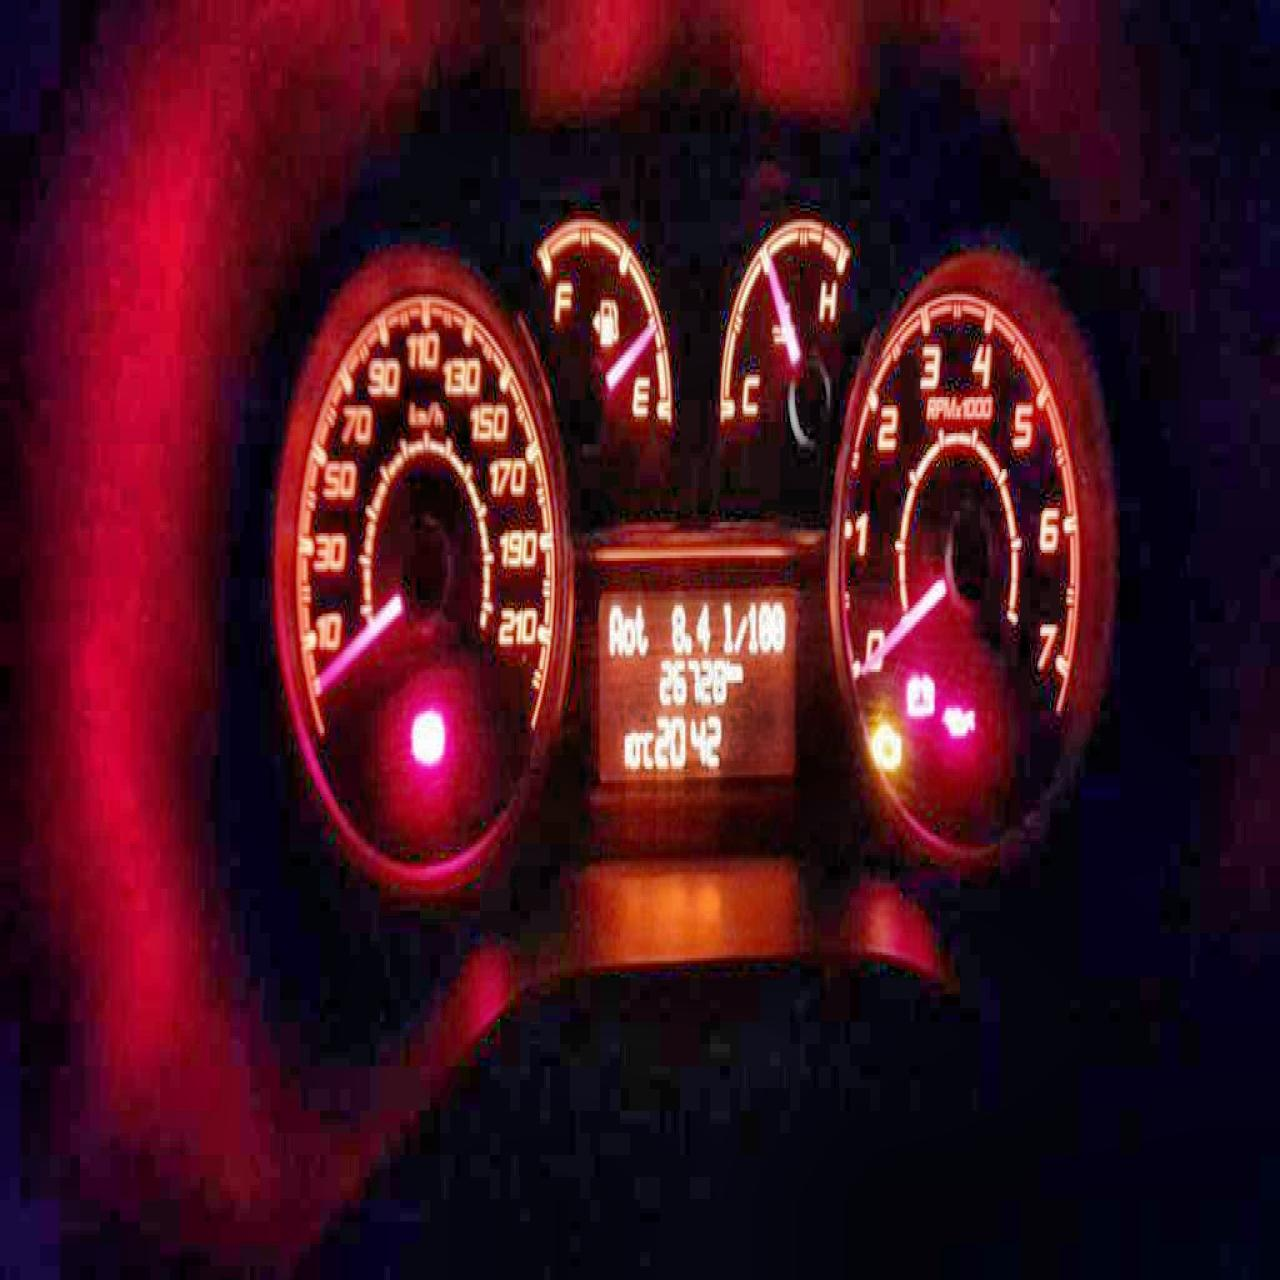-: (683, 631, 692, 653)
0: (669, 714, 685, 767), (771, 599, 785, 653), (757, 599, 771, 649), (629, 728, 640, 769)
1: (748, 599, 757, 653), (622, 730, 628, 767)
2: (654, 710, 668, 769), (707, 714, 722, 767), (658, 655, 672, 706), (699, 655, 713, 702)
4: (695, 599, 710, 653), (689, 716, 704, 763)
6: (672, 659, 687, 703)
7: (686, 655, 699, 702)
8: (712, 655, 727, 702), (670, 602, 685, 653)
X: (607, 600, 622, 655), (633, 602, 648, 655), (733, 611, 747, 652), (722, 599, 733, 653), (622, 613, 635, 653), (641, 728, 654, 767), (733, 661, 743, 683), (727, 655, 733, 683)
odometer: (597, 583, 798, 783)
